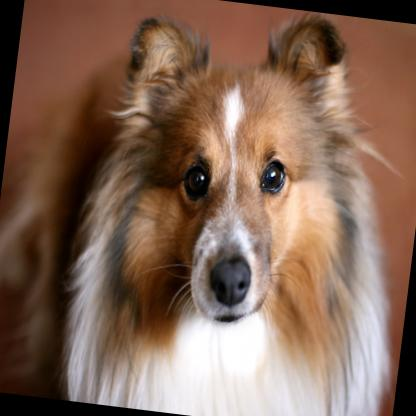Shetland_sheepdog: (55, 0, 416, 416)
